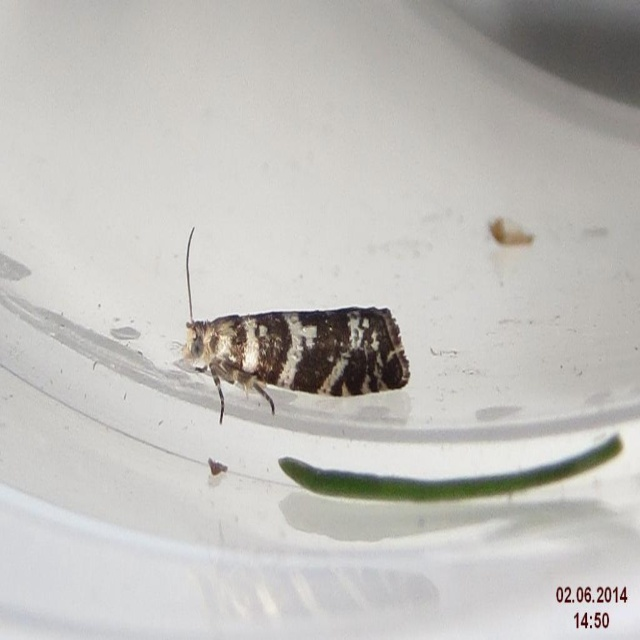Moths and butterflies: (168, 224, 411, 422)
